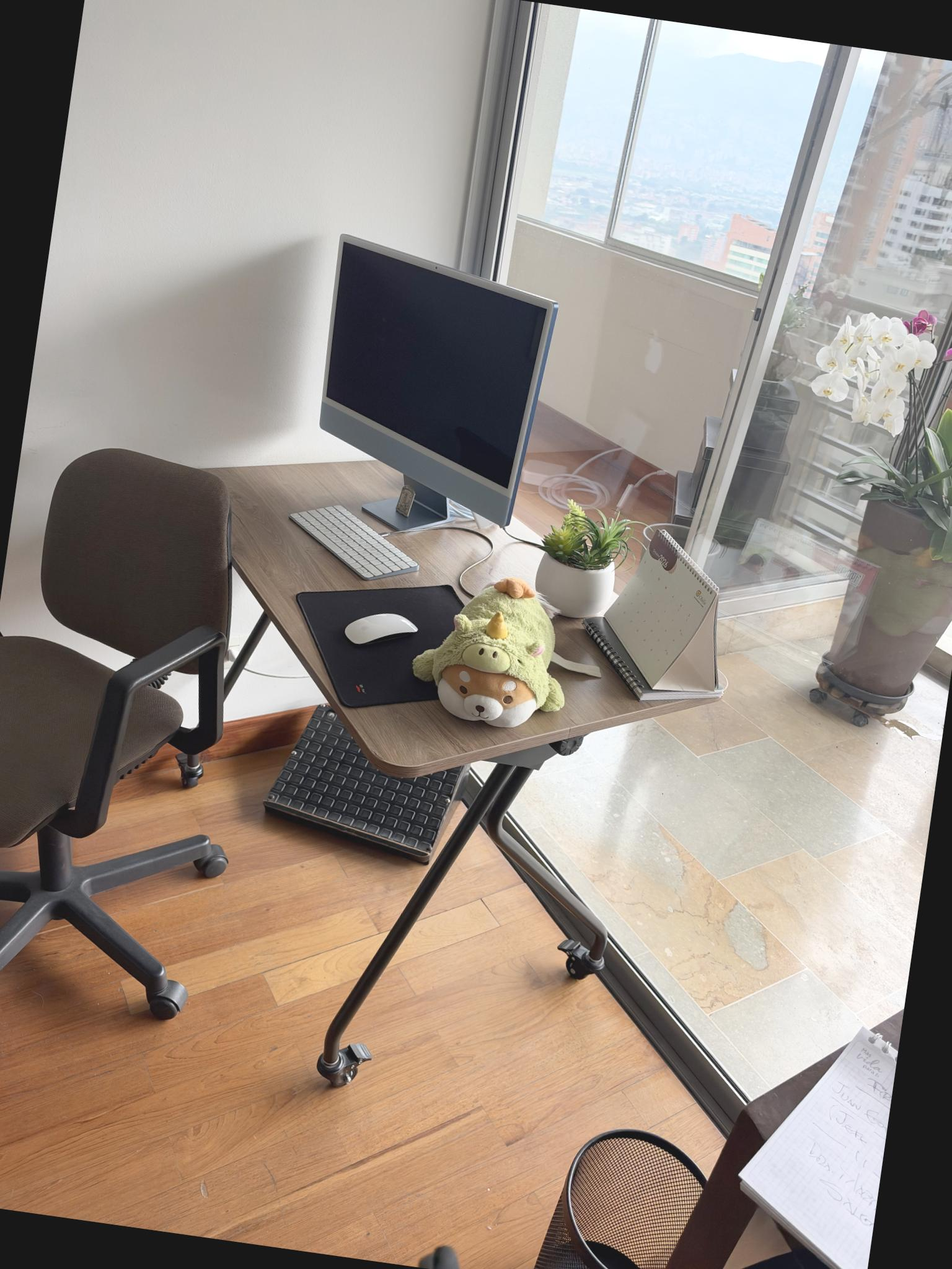peluche_martin: (404, 564, 582, 737)
